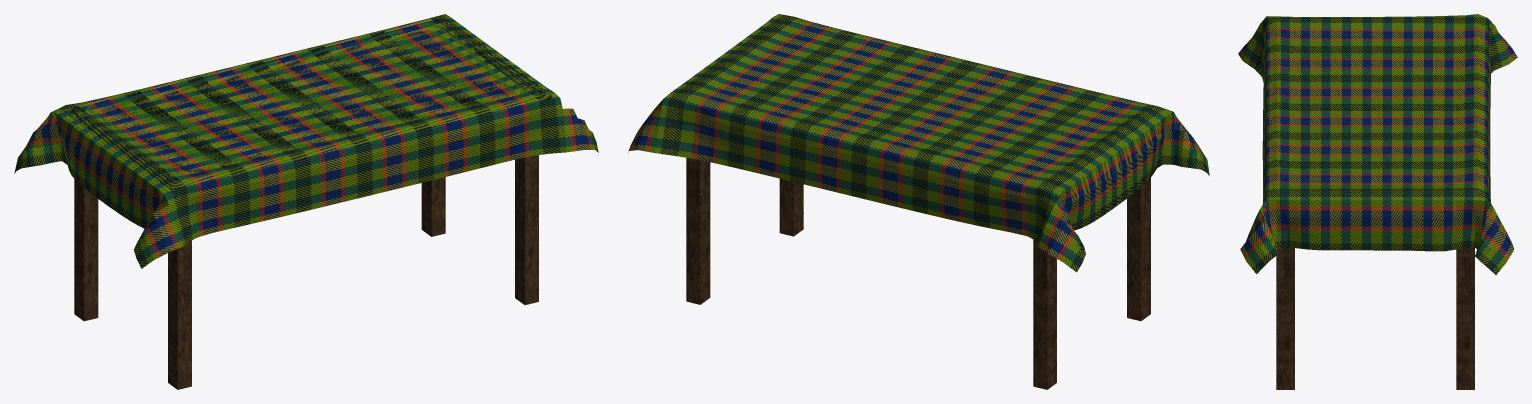
File: Mesa.fbx
3 views of the same model, side by side, from view 1: azimuth 30°, elevation 25°; view 2: azimuth 150°, elevation 25°; view 3: azimuth 270°, elevation 25° (orthographic). The views are drawn at different scales.
Parts seen in each view (by area): view 1: Plane, Cube.003, Cube.001, Cube.002, Cube.004; view 2: Plane, Cube.004, Cube.002, Cube.001, Cube.003; view 3: Plane, Cube.004, Cube.003.
Part boxes in pixels (x1,y1,x2,y2): Plane: (14, 14, 598, 268); Cube.003: (515, 155, 538, 304); Cube.001: (168, 240, 191, 389); Cube.002: (74, 179, 98, 321); Cube.004: (421, 177, 445, 236); Plane: (628, 14, 1209, 272); Cube.004: (686, 157, 710, 304); Cube.002: (1033, 239, 1056, 389); Cube.001: (1127, 178, 1150, 321); Cube.003: (779, 178, 803, 236); Plane: (1238, 14, 1517, 274); Cube.004: (1456, 247, 1474, 389); Cube.003: (1276, 247, 1294, 389).
Bounding box in the file's own units: 482 × 208 × 263.
2 materials, 2 textured.
